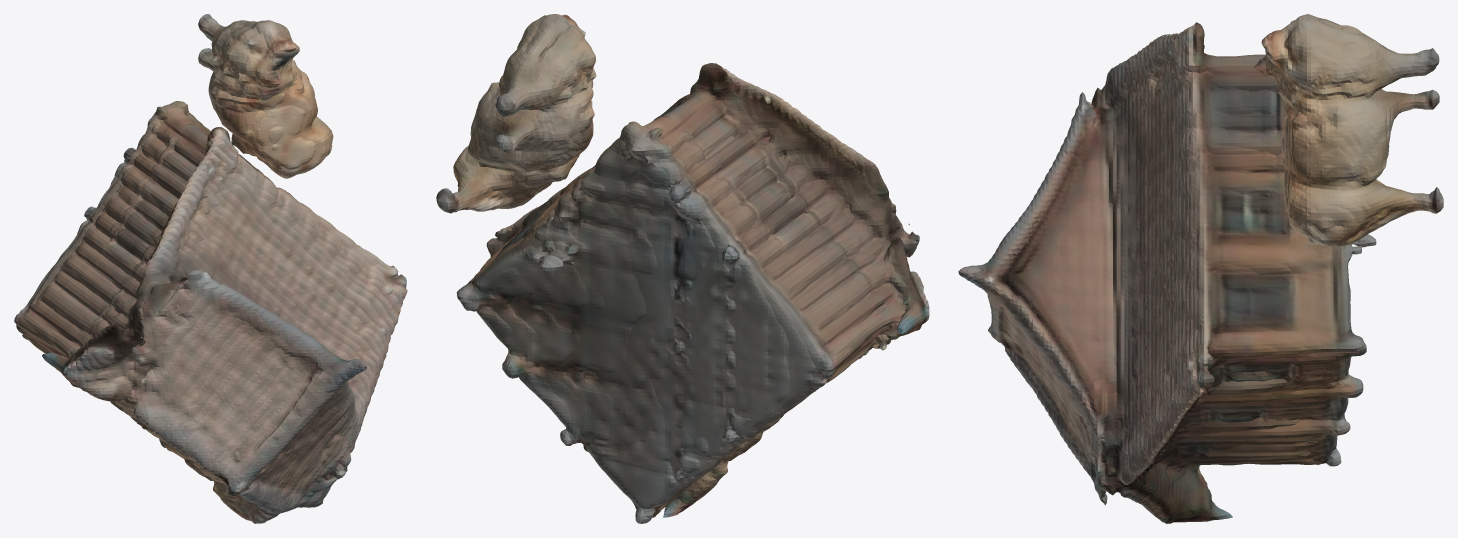
3 views of the same model, side by side, from view 1: azimuth 30°, elevation 25°; view 2: azimuth 150°, elevation 25°; view 3: azimuth 270°, elevation 25° (orthographic). The views are drawn at different scales.
Visible parts, largest first — view 1: world; view 2: world; view 3: world.
Boxes of the visible parts, x1=… form: world: x1=14, y1=14, x2=407, y2=523; world: x1=436, y1=14, x2=929, y2=523; world: x1=958, y1=14, x2=1443, y2=523.
Bounding box in the file's own units: 0.9107 × 1.07 × 0.8701.
